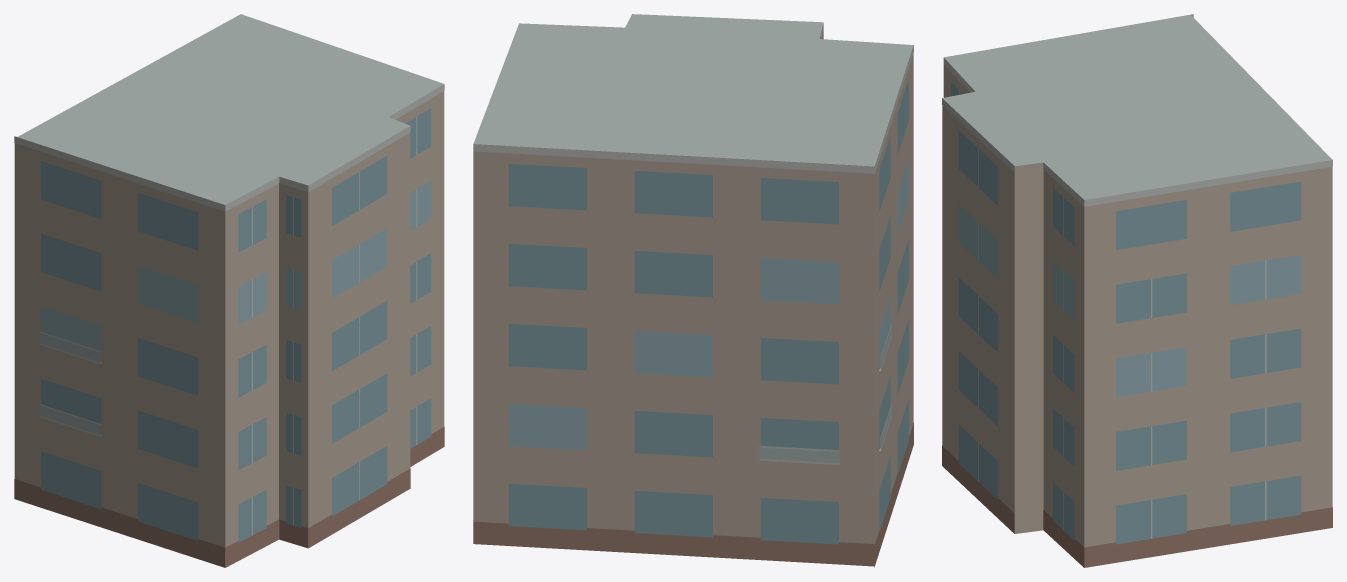
File: survey-upis-32866150.glb
3 views of the same model, side by side, from view 1: azimuth 30°, elevation 25°; view 2: azimuth 150°, elevation 25°; view 3: azimuth 270°, elevation 25° (orthographic). The views are drawn at different scales.
Visible parts, largest first — view 1: survey-upis-32866150.tmp; view 2: survey-upis-32866150.tmp; view 3: survey-upis-32866150.tmp.
Boxes of the visible parts, x1,y1,x2,y2 form: survey-upis-32866150.tmp: (14, 14, 444, 567); survey-upis-32866150.tmp: (473, 14, 913, 567); survey-upis-32866150.tmp: (942, 14, 1332, 567).
Size of the model in its own units: 14.44 by 13.3 by 12.81.
